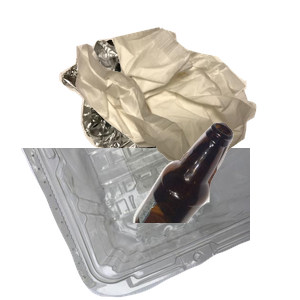glass: (130, 120, 300, 300)
metal: (57, 36, 241, 216)
plastic: (19, 148, 259, 300)
trash: (73, 25, 300, 183)
